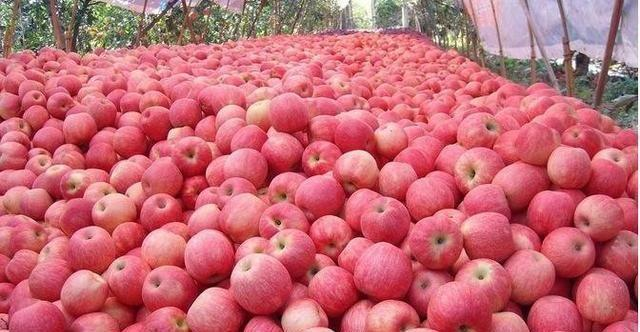apple: (229, 255, 292, 314), (352, 241, 414, 299), (426, 281, 494, 332), (457, 256, 511, 310), (410, 218, 465, 270), (506, 249, 556, 303), (577, 268, 627, 322), (184, 229, 232, 283), (184, 288, 242, 332), (453, 146, 504, 195), (464, 211, 516, 259), (575, 189, 622, 241), (361, 194, 410, 243), (544, 228, 595, 275), (139, 265, 196, 306), (307, 265, 355, 313), (513, 120, 562, 165), (265, 231, 315, 275), (59, 269, 110, 312), (107, 255, 151, 304), (68, 225, 115, 270), (407, 176, 454, 218), (600, 230, 640, 279), (8, 300, 69, 332), (527, 190, 574, 231), (530, 295, 582, 332), (257, 200, 309, 237), (333, 150, 378, 191), (363, 300, 420, 332), (28, 256, 68, 301), (457, 109, 503, 148), (310, 214, 352, 256), (137, 192, 184, 229), (269, 90, 309, 133), (548, 147, 591, 186), (259, 135, 302, 173), (173, 135, 213, 175), (92, 193, 139, 227), (333, 117, 375, 155), (139, 161, 184, 195), (215, 176, 260, 207), (562, 124, 602, 158), (301, 140, 341, 174), (589, 146, 634, 175), (265, 171, 304, 204), (140, 306, 188, 332), (375, 122, 409, 158), (17, 186, 53, 220), (10, 220, 47, 252), (111, 125, 148, 154), (137, 107, 170, 139), (58, 169, 91, 199), (87, 98, 117, 126), (1, 116, 33, 139), (1, 143, 28, 169), (46, 93, 74, 117), (85, 183, 120, 200), (22, 89, 46, 113), (25, 155, 54, 174)
